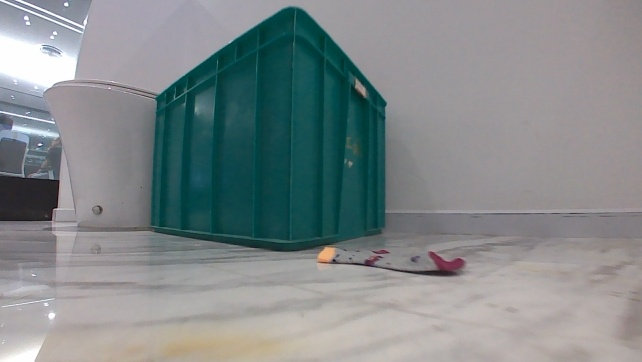socks: (315, 240, 464, 275)
toilet: (41, 74, 158, 232)
